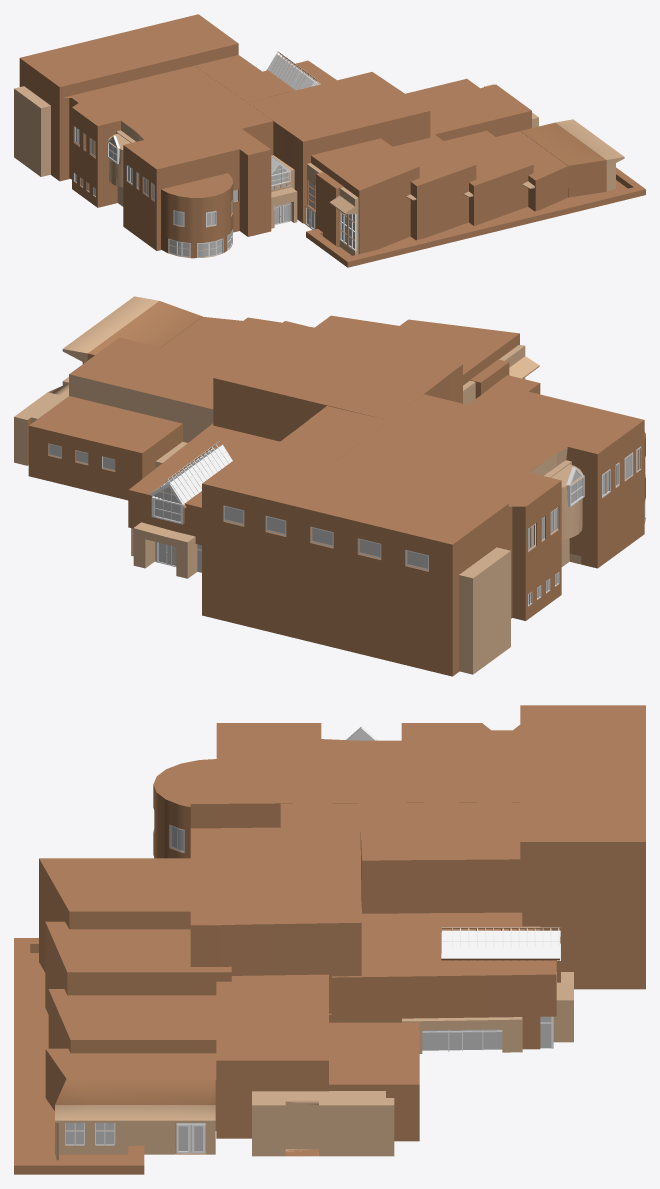
Rendered from diehn_fine_performing_arts.fbx.
3 renders of one model, top to bottom at view 1: azimuth 30°, elevation 25°; view 2: azimuth 150°, elevation 25°; view 3: azimuth 270°, elevation 25°, orthographic. The views are drawn at different scales.
Parts seen in each view (by area): view 1: pCube302; view 2: pCube302; view 3: pCube302.
Boxes of the visible parts, box(x1,y1,x2,y2) form: pCube302: box(14, 14, 645, 267); pCube302: box(14, 296, 645, 676); pCube302: box(14, 705, 645, 1174).
Bounding box in the file's own units: 197 × 41.72 × 159.
